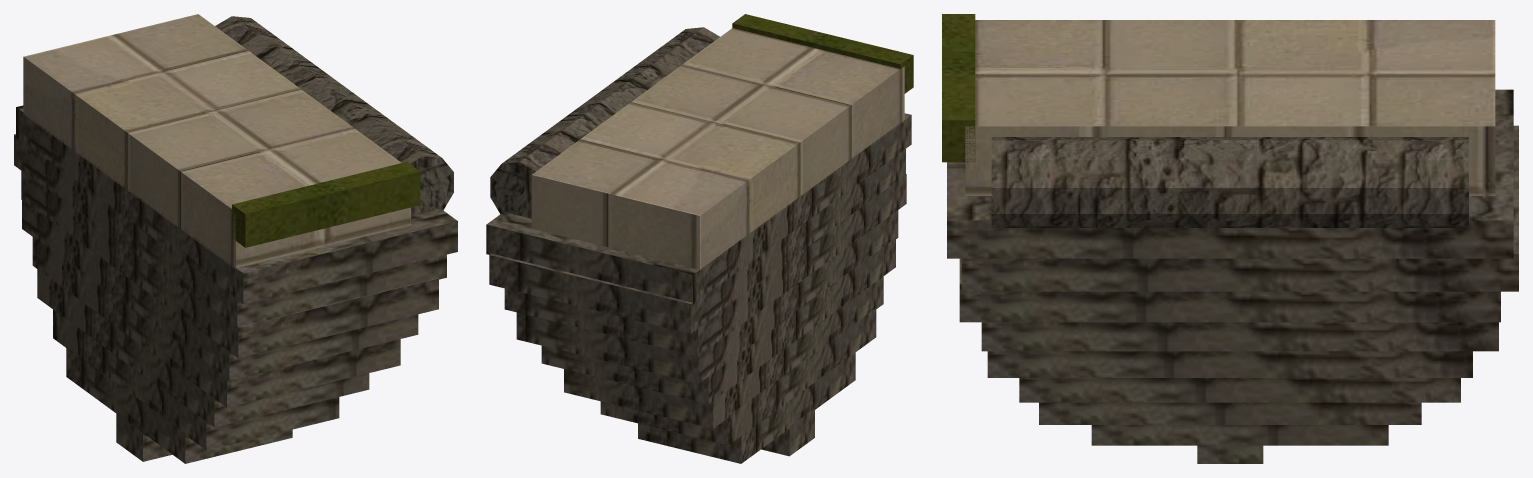
The model's file is plat_stone_end_01.glb.
3 views of the same model, side by side, from view 1: azimuth 30°, elevation 25°; view 2: azimuth 150°, elevation 25°; view 3: azimuth 270°, elevation 25° (orthographic). The views are drawn at different scales.
Parts seen in each view (by area): view 1: plat_stone_end_01; view 2: plat_stone_end_01; view 3: plat_stone_end_01.
Boxes of the visible parts, x1,y1,x2,y2 form: plat_stone_end_01: (14, 14, 457, 463); plat_stone_end_01: (486, 14, 913, 463); plat_stone_end_01: (942, 14, 1518, 463).
Size of the model in its own units: 0.4966 by 0.67 by 0.8705.
Materials: 3 (3 with a texture image).
